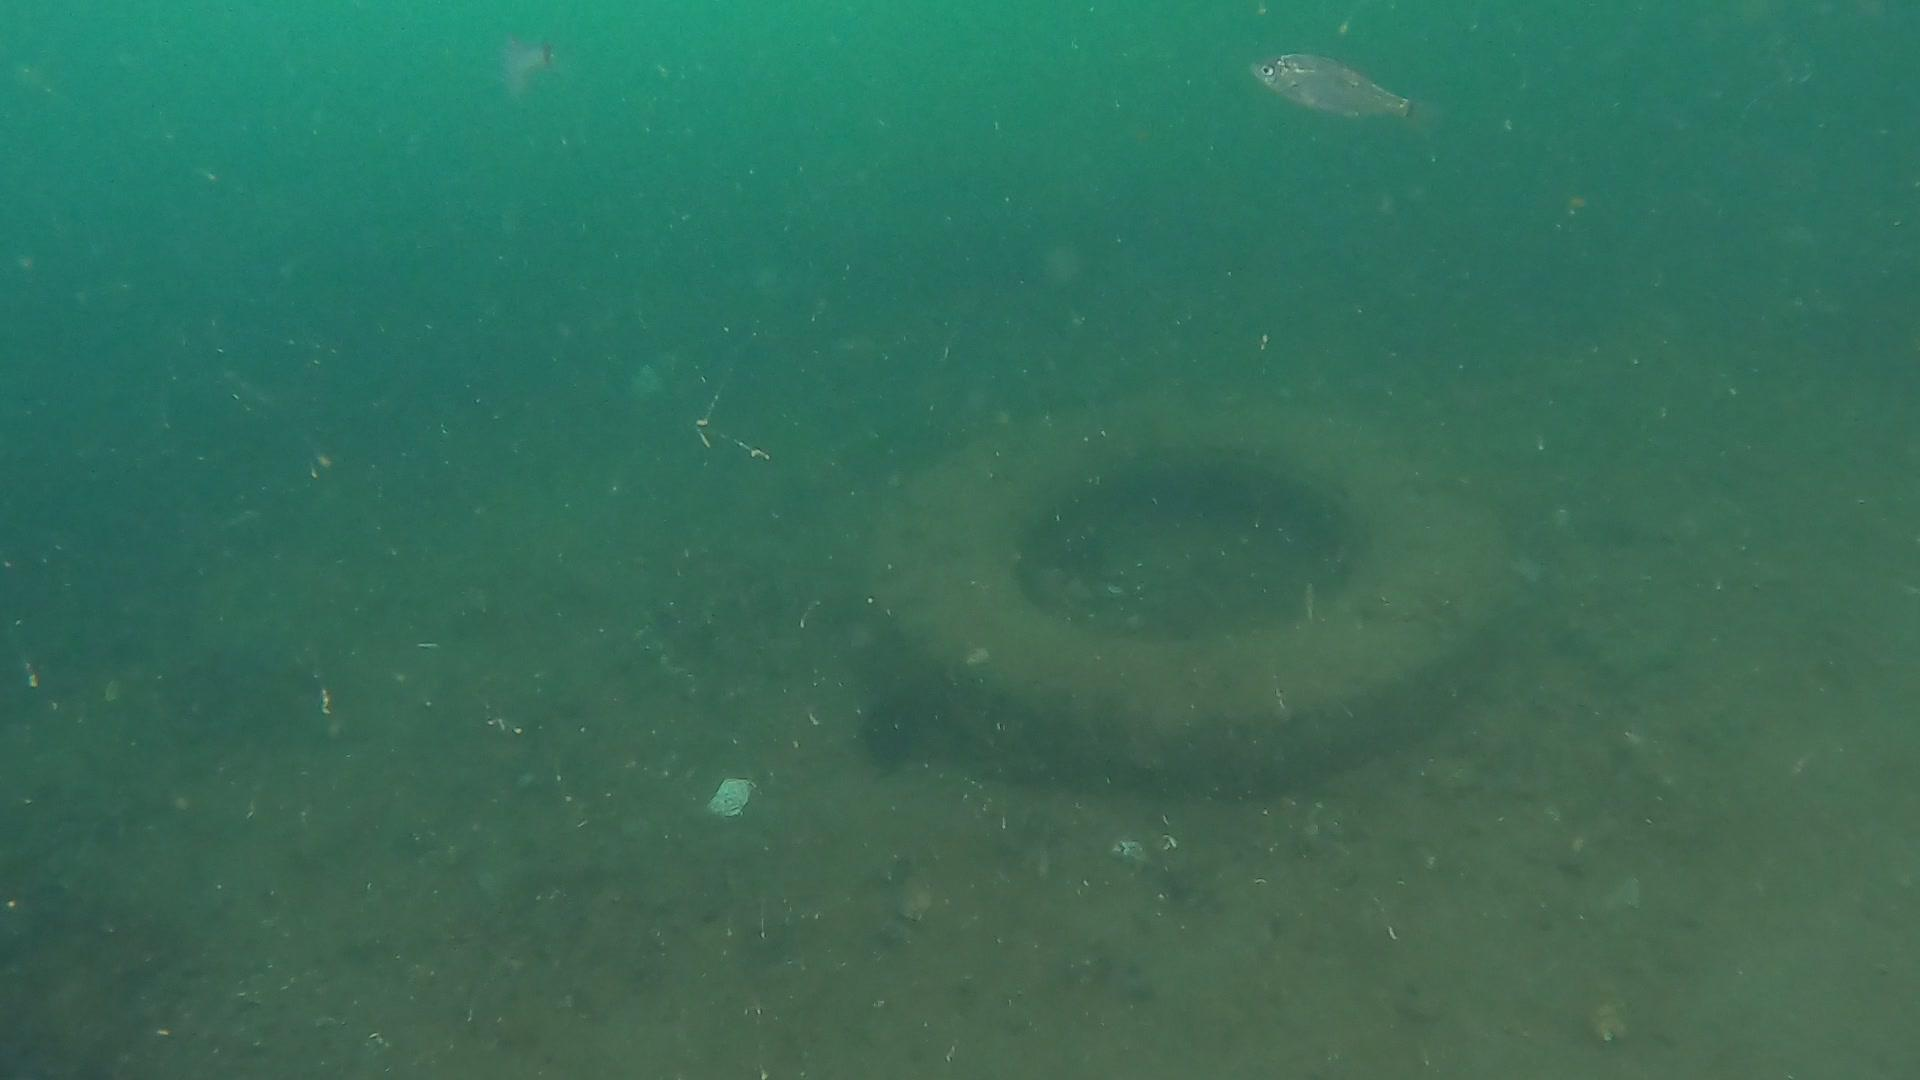tire: (848, 389, 1516, 800)
